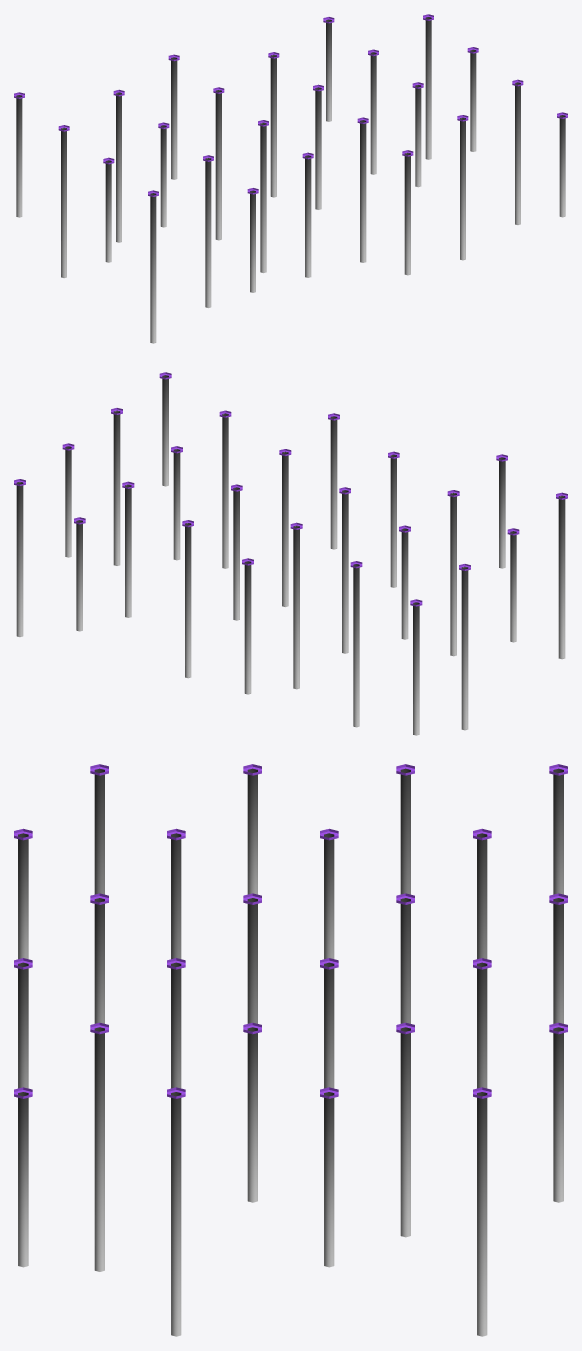
The model's file is LightCeiling15_3.FBX.
The picture shows the model from 3 angles, top to bottom: view 1: azimuth 30°, elevation 25°; view 2: azimuth 150°, elevation 25°; view 3: azimuth 270°, elevation 25°; orthographic projection. The views are drawn at different scales.
Visible parts, largest first — view 1: LightCeiling15_3; view 2: LightCeiling15_3; view 3: LightCeiling15_3.
Part boxes in pixels (x1=…): LightCeiling15_3: x1=14, y1=14, x2=567, y2=343; LightCeiling15_3: x1=14, y1=372, x2=567, y2=735; LightCeiling15_3: x1=14, y1=764, x2=567, y2=1336.
Size of the model in its own units: 206 by 74.49 by 145.
